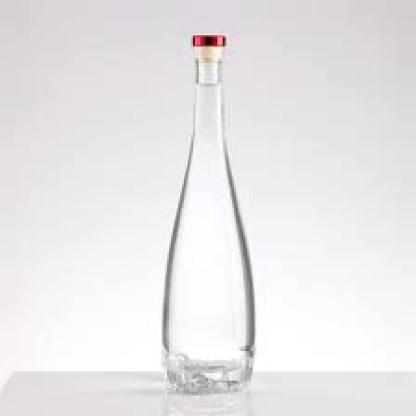Can: (162, 31, 258, 395)
